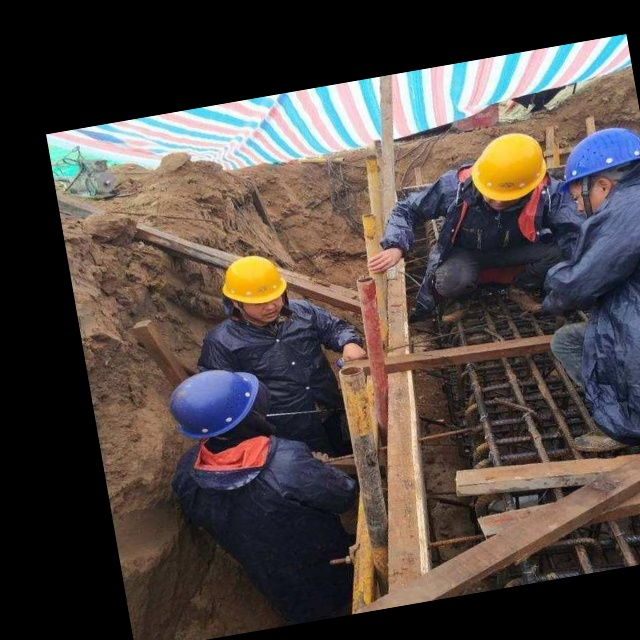Con_Casco: (467, 128, 552, 208), (218, 250, 296, 327)
